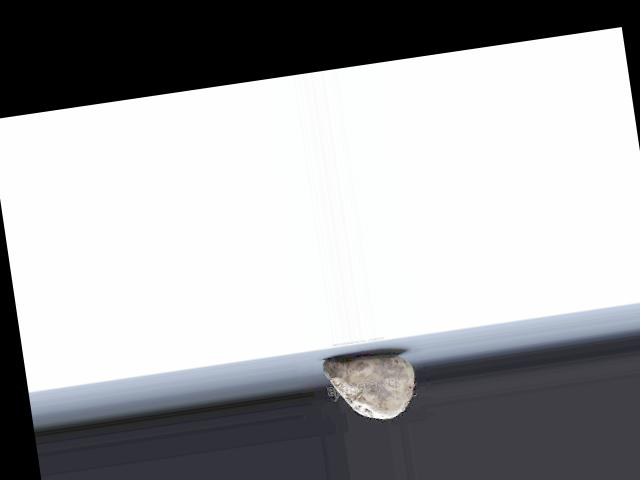beet: (323, 347, 421, 425)
